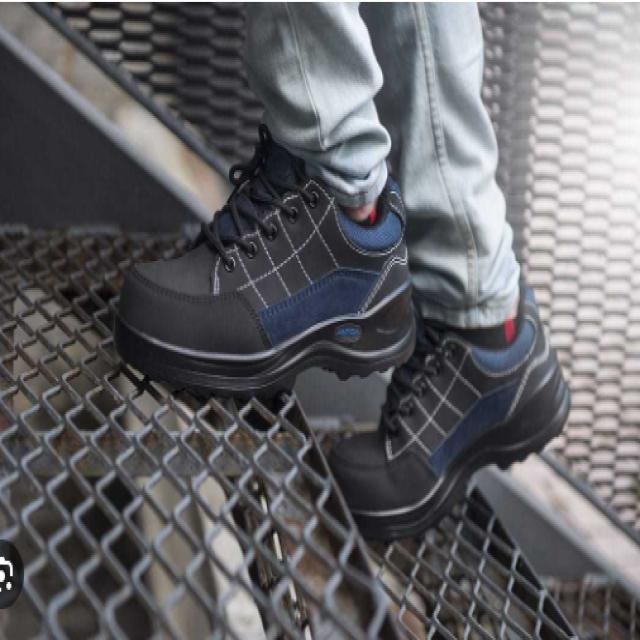shoes: (107, 121, 575, 552)
